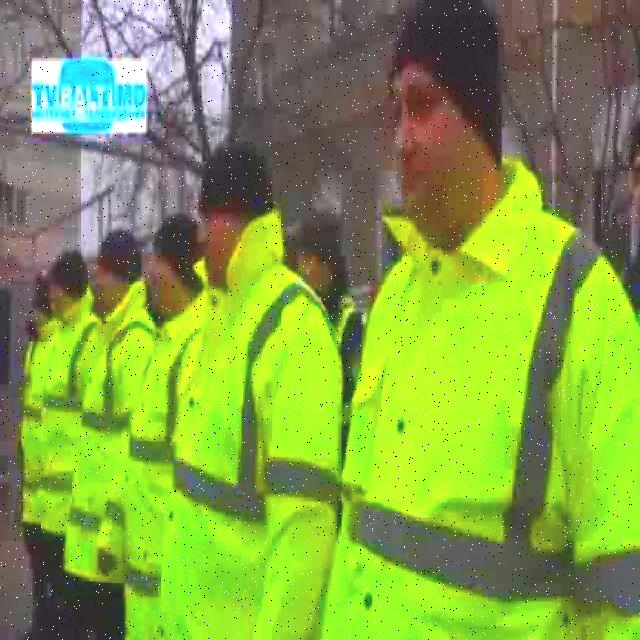Mask: (320, 151, 638, 638), (154, 204, 346, 638), (126, 287, 214, 638), (61, 270, 158, 588), (38, 286, 98, 540), (19, 317, 62, 528)
